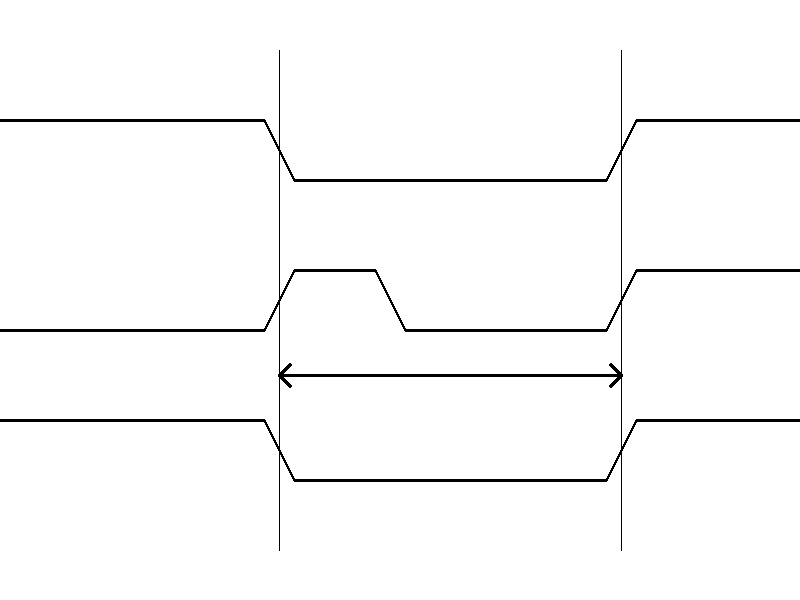double_arrow: (279, 360, 621, 390)
